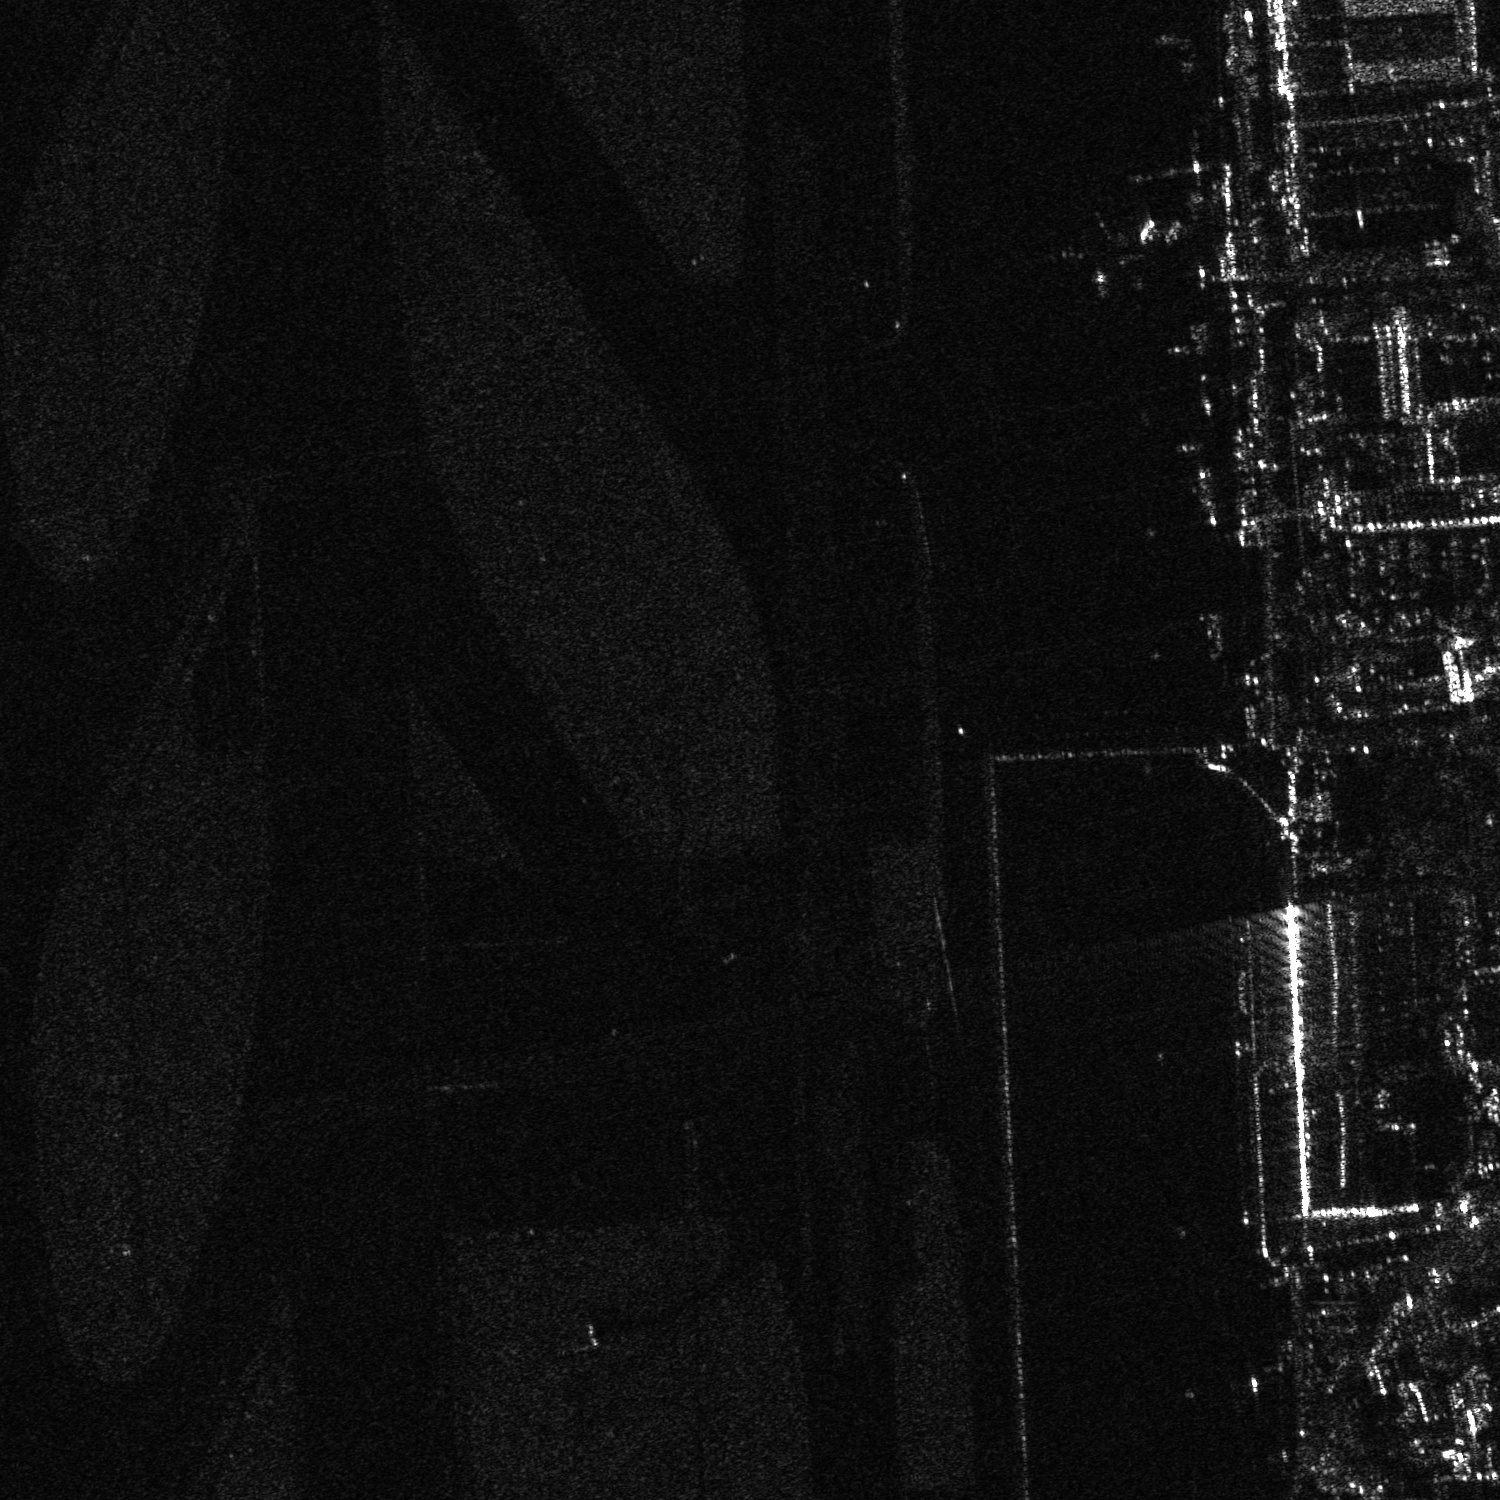A220: (1043, 201, 1177, 305)
